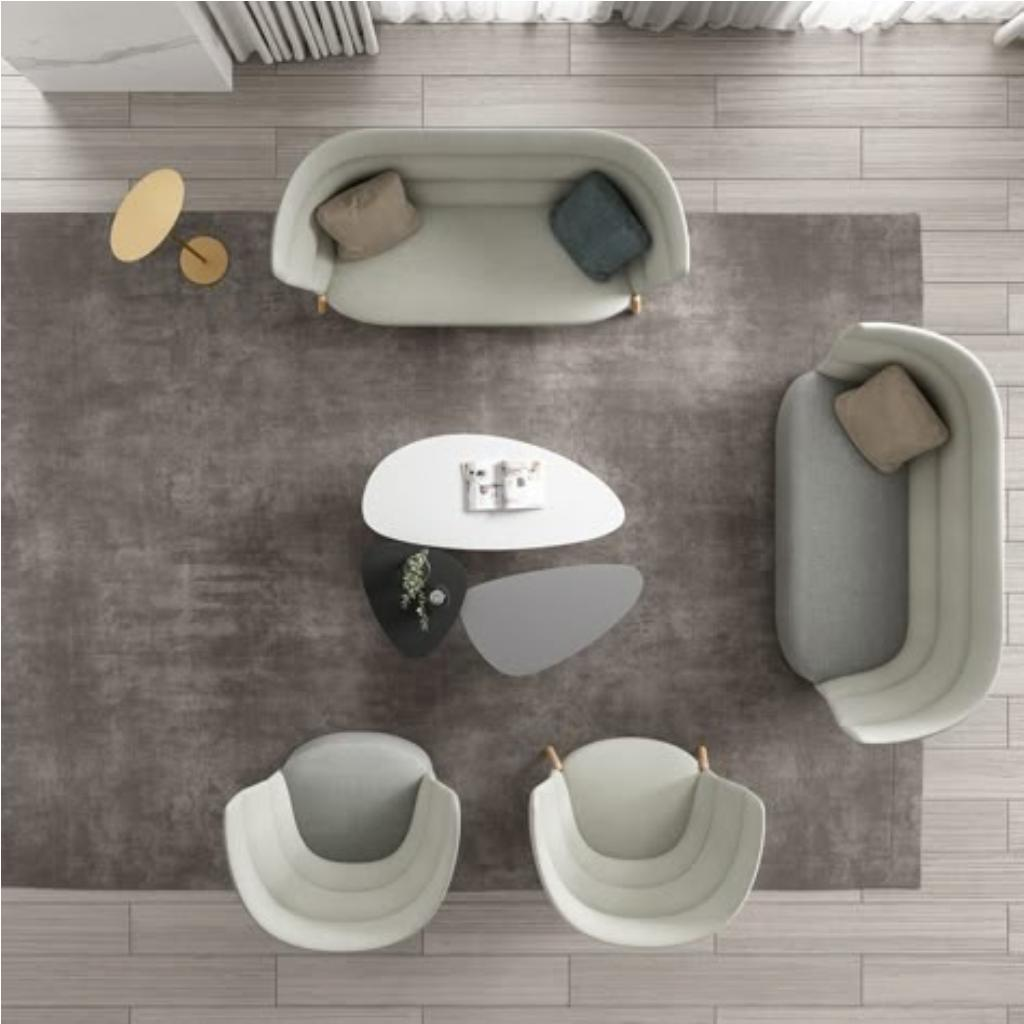chair: (219, 732, 459, 952), (527, 733, 767, 949)
coffee table: (362, 434, 640, 676)
floor lamp: (175, 232, 229, 288)
rug: (0, 212, 922, 894)
sofa: (771, 319, 1007, 745), (268, 122, 690, 330)
window: (606, 2, 1020, 28), (200, 2, 600, 28)
